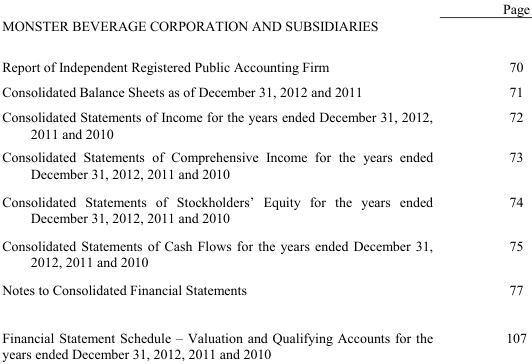table: (1, 0, 529, 361)
table column: (1, 0, 467, 361), (467, 0, 529, 361)
table column header: (1, 0, 529, 16)
table projected row header: (1, 16, 529, 45)
table row: (1, 313, 529, 361), (1, 187, 529, 231), (1, 231, 529, 275), (1, 144, 529, 187), (1, 103, 529, 144), (1, 275, 529, 313), (1, 45, 529, 78), (1, 16, 529, 45), (1, 78, 529, 103), (1, 0, 529, 16)
